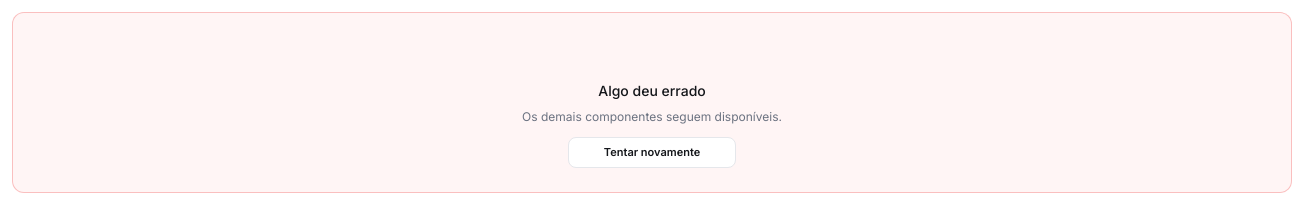
BlocoErrorBoundary (spec §8.4 — boundary POR BLOCO) › "Tentar novamente" remonta o bloco
Click the button "Tentar novamente". click: point(652, 152)
box: [568,137,736,168]
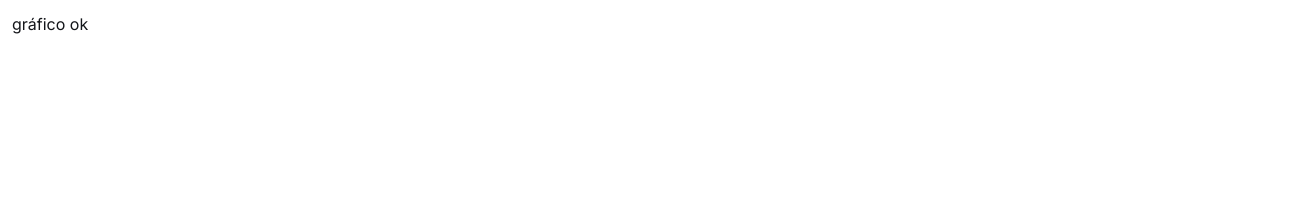
Now the text "gráfico ok" is shown, box [12,14,88,34]
Now the message "Algo deu errado Os demais componentes seguem disponíveis. Tentar novamente" is gone
